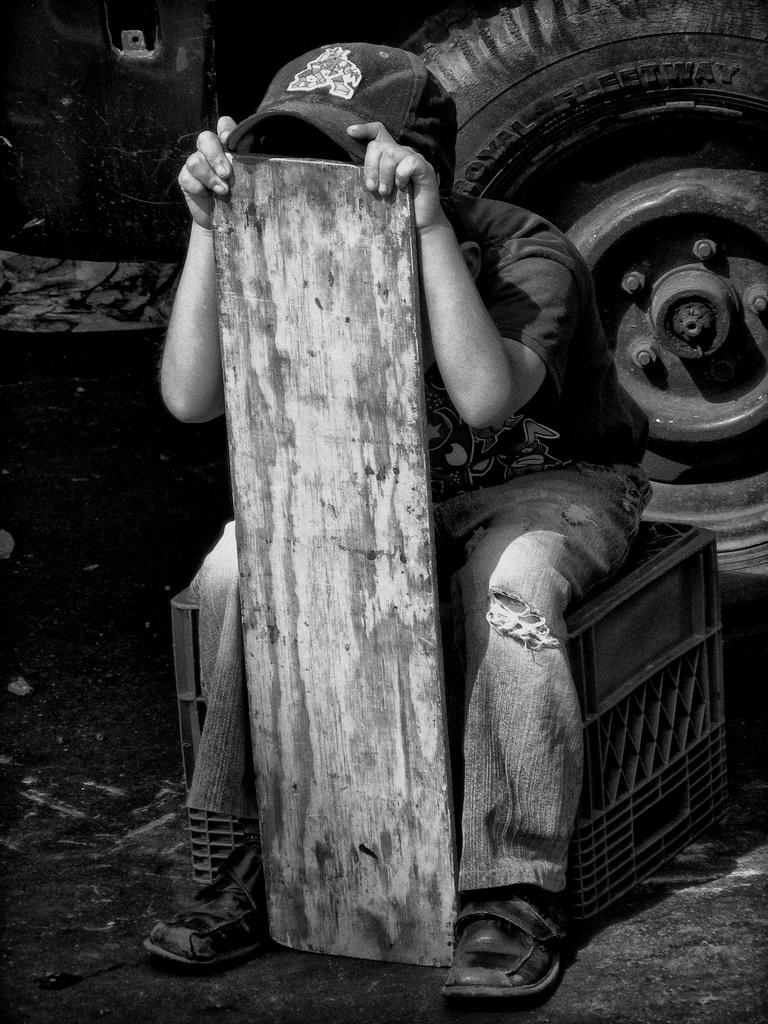Hat: (222, 42, 458, 168)
